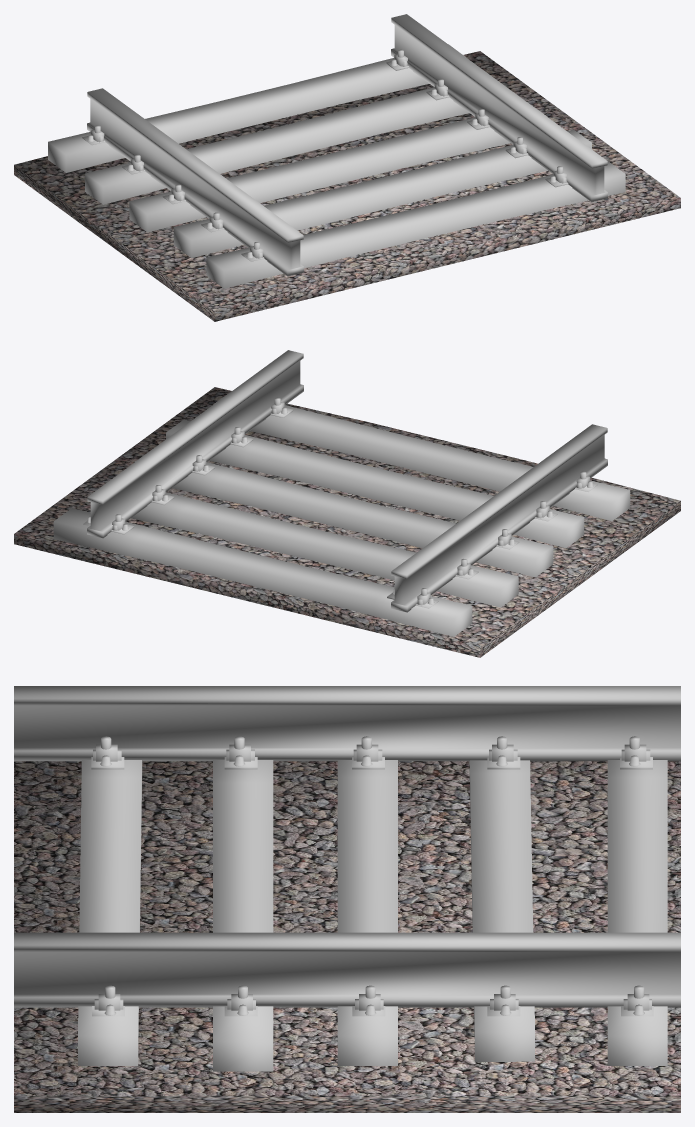
The model's file is track_straigh_wood.fbx.
The picture shows the model from 3 angles, top to bottom: view 1: azimuth 30°, elevation 25°; view 2: azimuth 150°, elevation 25°; view 3: azimuth 270°, elevation 25°; orthographic projection. The views are drawn at different scales.
Visible parts, largest first — view 1: wood, ground, rails; view 2: wood, ground, rails; view 3: ground, rails, wood.
Boxes of the visible parts, x1,y1,x2,y2 form: wood: (48,44,625,288); ground: (14,51,680,321); rails: (82,14,607,276); wood: (53,392,630,636); ground: (14,387,680,657); rails: (83,350,607,612); ground: (14,761,680,1112); rails: (14,686,680,1016); wood: (78,760,667,1071).
Size of the model in its own units: 2.85 by 0.3803 by 2.13.
